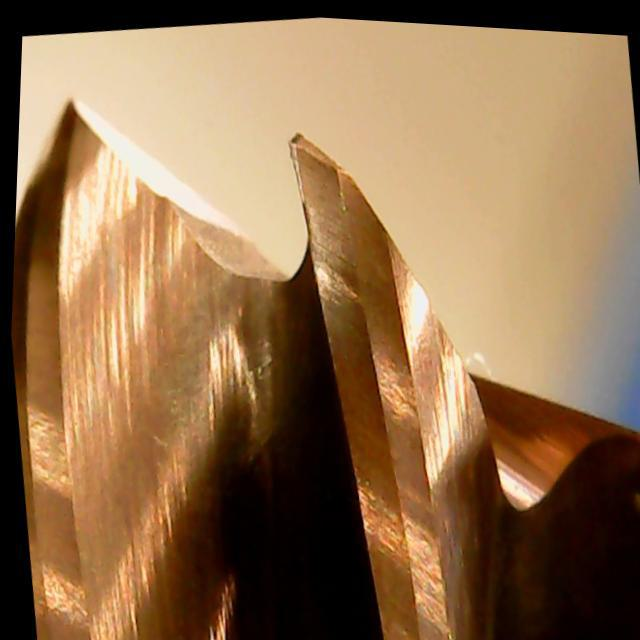Tool-wear-class-1: (271, 108, 436, 346)
